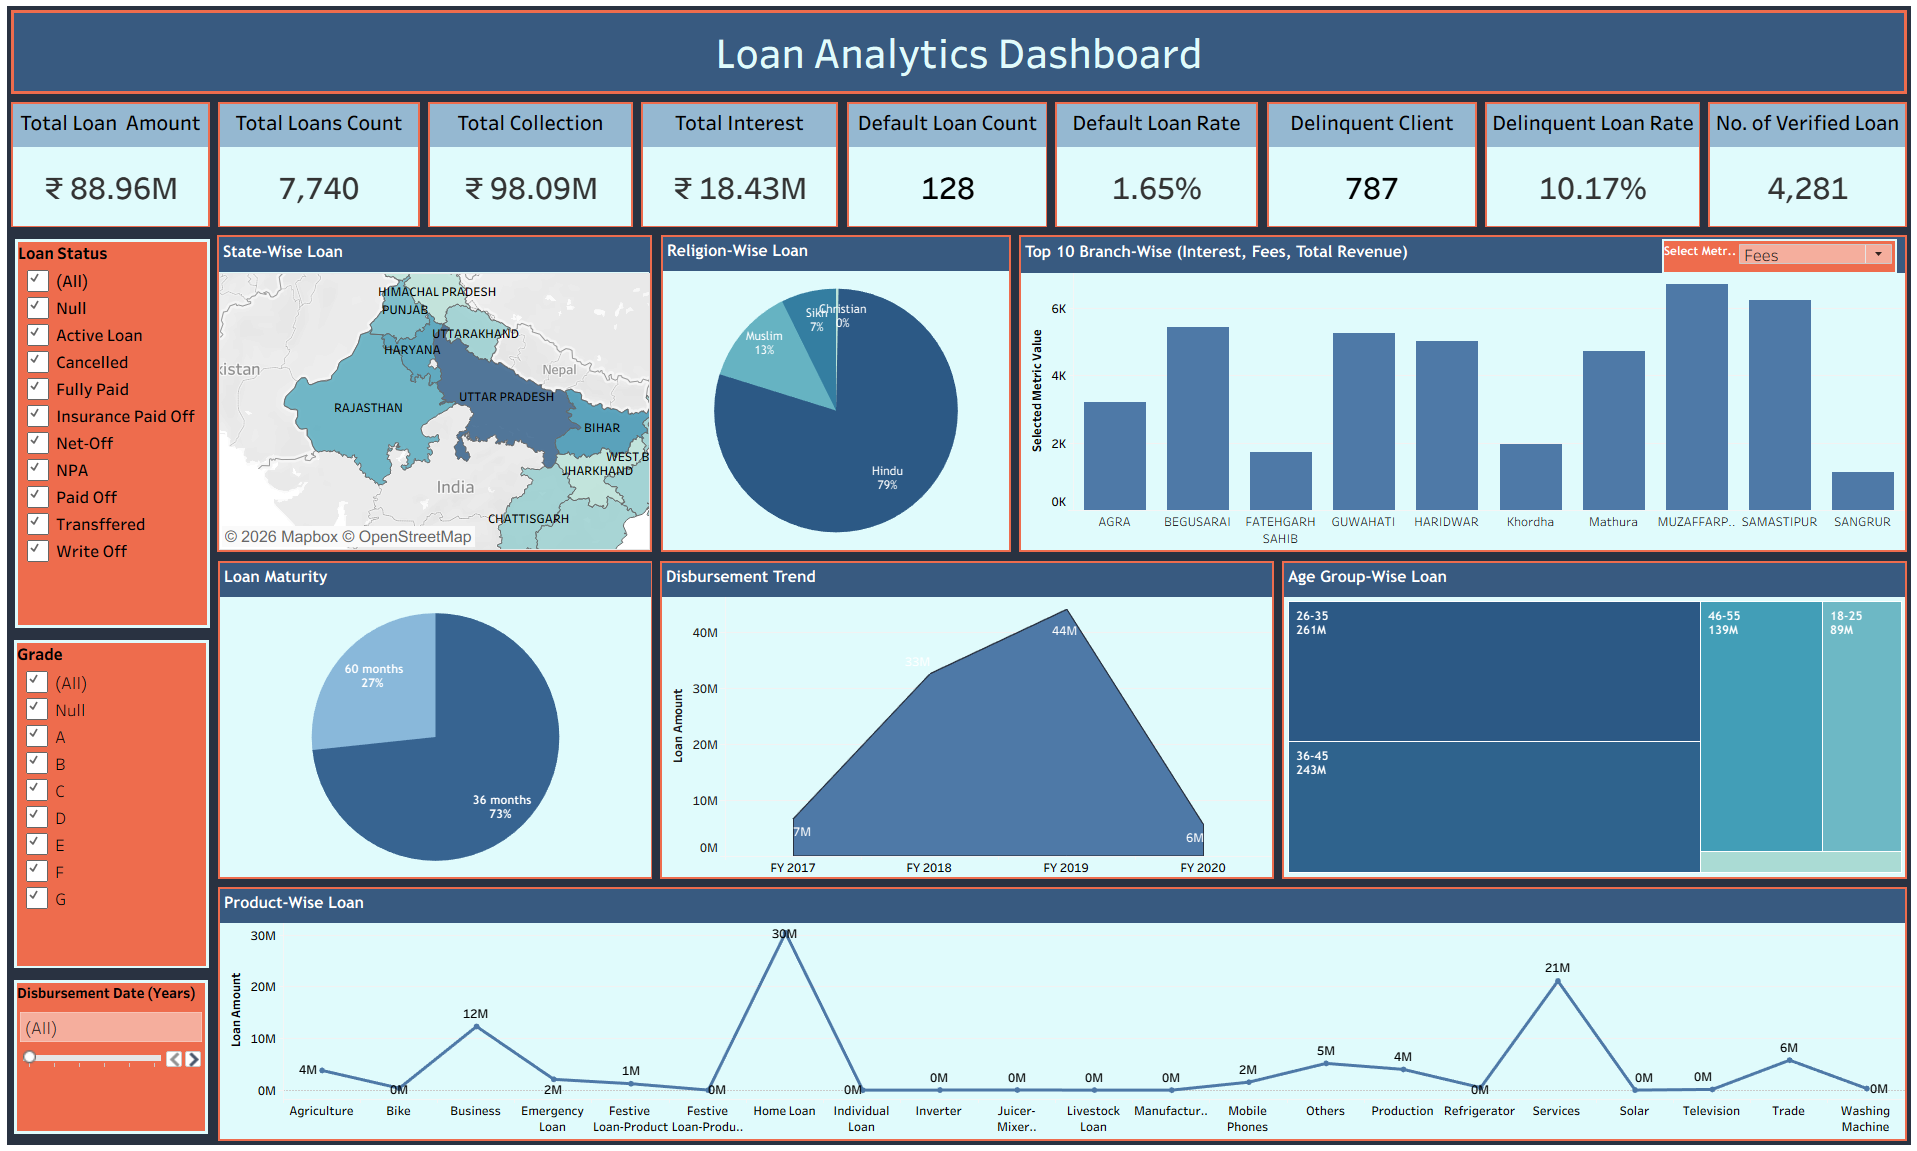

This screenshot's page, from the dashboard's own definition file:
{"tool":"tableau","page":{"name":"Dashboard 2","canvas":[1000,1000],"units":"permille","ordinal":0},"visuals":[{"type":"text","box":[5,9.2,990,79.4]},{"type":"worksheet","title":"Q1","mark":"Automatic","box":[5,88.7,107.5,115.2]},{"type":"worksheet","title":"Q2","mark":"Automatic","box":[112.5,88.7,109.3,115.2]},{"type":"worksheet","title":"Q3","mark":"Automatic","box":[221.8,88.7,111,115.2]},{"type":"worksheet","title":"Q4","mark":"Automatic","box":[332.8,88.7,106.8,115.2]},{"type":"worksheet","title":"11","mark":"Automatic","box":[439.6,88.7,108.6,115.2]},{"type":"worksheet","title":"Q14","mark":"Automatic","box":[548.2,88.7,109.8,115.2]},{"type":"worksheet","title":"12","mark":"Automatic","box":[658,88.7,113.4,115.2]},{"type":"worksheet","title":"Q13","mark":"Automatic","box":[771.4,88.7,116.3,115.2]},{"type":"worksheet","title":"Q17","mark":"Automatic","box":[887.7,88.7,107.3,115.2]},{"type":"worksheet","title":"Q6","mark":"Multipolygon","box":[112.5,203.8,230.6,280.2]},{"type":"worksheet","title":"Q7","mark":"Pie","box":[343.1,203.8,186.1,280.2]},{"type":"worksheet","title":"Q.5","mark":"Bar","rows":["Calculation_1136595974343340032"],"cols":["Branch Name"],"box":[529.1,203.8,465.9,280.2]},{"type":"filter","title":"Q1","param":"[federated.0qlpkhx09uj5du1ewlrqz0x4nt9l].[none:Loan Status:nk]","box":[8.1,209,101.6,337.2]},{"type":"parameter","param":"[Parameters].[Parameter 1]","box":[866,210.2,122.8,31.2]},{"type":"worksheet","title":"Q18","mark":"Pie","box":[112.6,484,230.2,281.3]},{"type":"worksheet","title":"Q9","mark":"Area","rows":["Loan Amount"],"cols":["Disbursement Date (Years)"],"box":[342.9,484,323.2,281.3]},{"type":"worksheet","title":"Q16","mark":"Automatic","box":[666.1,484,328.9,281.3]},{"type":"filter","title":"Q1","param":"[federated.0qlpkhx09uj5du1ewlrqz0x4nt9l].[none:Grrade:nk]","box":[7.9,555.6,101.8,284.6]},{"type":"worksheet","title":"Q8","mark":"Line","rows":["Loan Amount"],"cols":["Purpose Category"],"box":[112.6,765.3,882.4,225.5]},{"type":"filter","title":"Q9","param":"[federated.0qlpkhx09uj5du1ewlrqz0x4nt9l].[none:Disbursement Date (Years):nk]","box":[7.9,850.2,101.2,133.6]}]}

Visuals, with their boxes on the dashboard's canvas, which has no fixed pixel size, in thousandths of its width and height (x1, y1, x2, y2). These are canvas units, not pixel positions in the 1917x1151 screenshot, which may show the page scaled, cropped or inside an application window:
text: bbox(5, 9, 995, 89)
"Q1" worksheet: bbox(5, 89, 112, 204)
"Q2" worksheet: bbox(112, 89, 222, 204)
"Q3" worksheet: bbox(222, 89, 333, 204)
"Q4" worksheet: bbox(333, 89, 440, 204)
"11" worksheet: bbox(440, 89, 548, 204)
"Q14" worksheet: bbox(548, 89, 658, 204)
"12" worksheet: bbox(658, 89, 771, 204)
"Q13" worksheet: bbox(771, 89, 888, 204)
"Q17" worksheet: bbox(888, 89, 995, 204)
"Q6" worksheet (Multipolygon marks): bbox(112, 204, 343, 484)
"Q7" worksheet (Pie marks): bbox(343, 204, 529, 484)
"Q.5" worksheet (Bar marks): bbox(529, 204, 995, 484)
"Q1" filter: bbox(8, 209, 110, 546)
parameter: bbox(866, 210, 989, 241)
"Q18" worksheet (Pie marks): bbox(113, 484, 343, 765)
"Q9" worksheet (Area marks): bbox(343, 484, 666, 765)
"Q16" worksheet: bbox(666, 484, 995, 765)
"Q1" filter: bbox(8, 556, 110, 840)
"Q8" worksheet (Line marks): bbox(113, 765, 995, 991)
"Q9" filter: bbox(8, 850, 109, 984)
